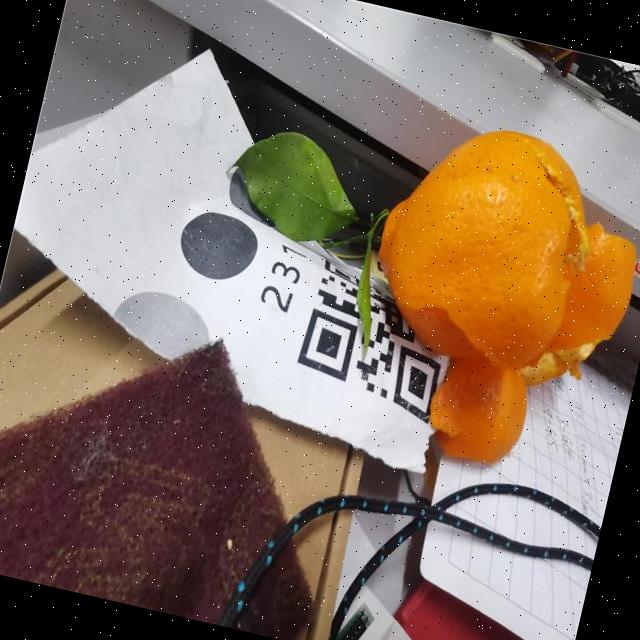orange-peel: (333, 103, 640, 488)
